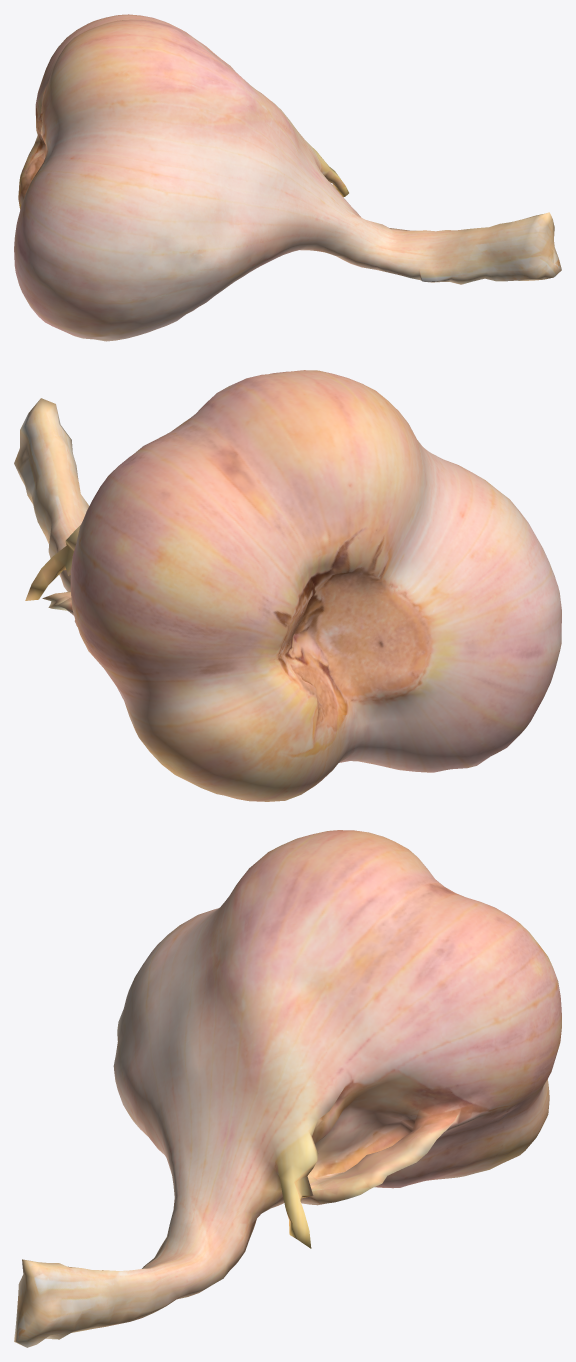
Rendered from garlic_-_low_poly.obj.
3 renders of one model, top to bottom at view 1: azimuth 30°, elevation 25°; view 2: azimuth 150°, elevation 25°; view 3: azimuth 270°, elevation 25°, orthographic. The views are drawn at different scales.
Parts seen in each view (by area): view 1: Object_4; view 2: Object_4; view 3: Object_4.
Boxes of the visible parts, x1,y1,x2,y2 form: Object_4: (14,14,561,341); Object_4: (14,370,561,801); Object_4: (14,830,561,1347).
Bounding box in the file's own units: 0.1551 × 0.0878 × 0.1248.
Materials: 1 (1 with a texture image).
